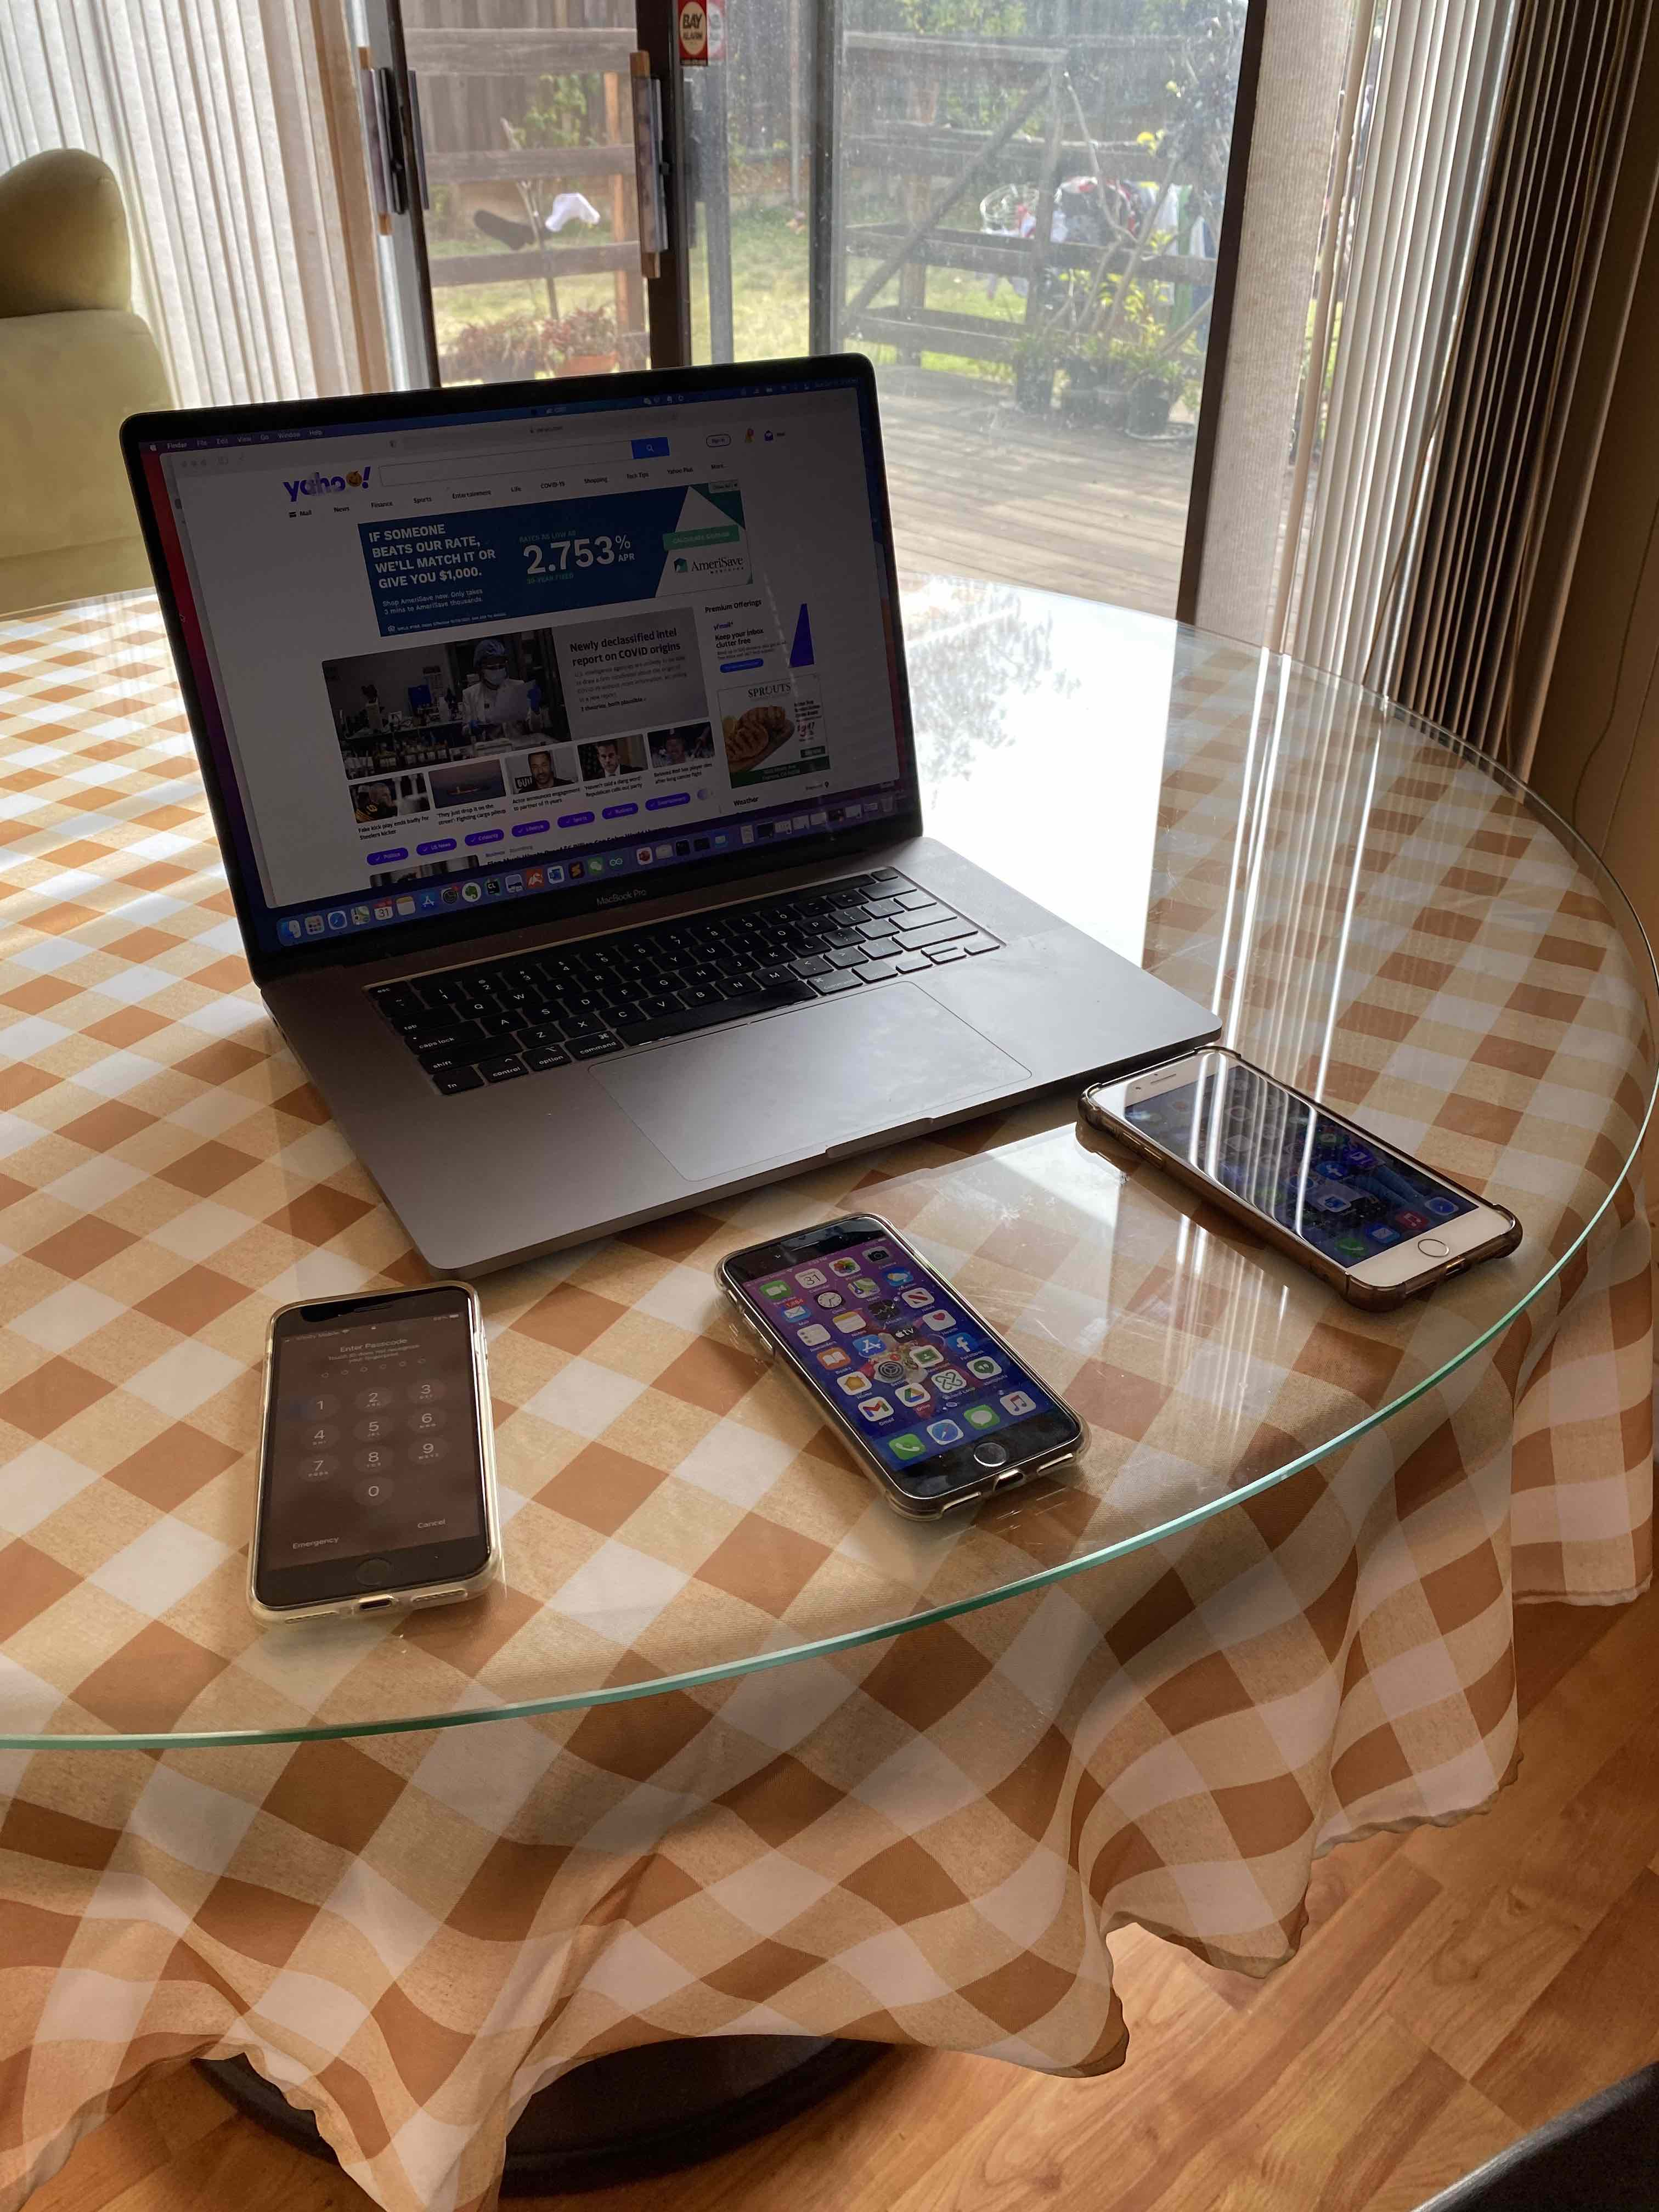Cell Phone: (721, 1214, 1086, 1522), (1079, 1049, 1525, 1287), (254, 1291, 502, 1609)
